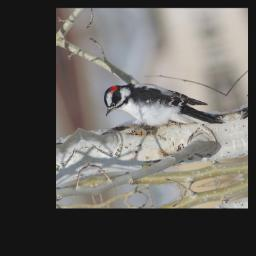Woodpecker: (98, 65, 227, 149)
